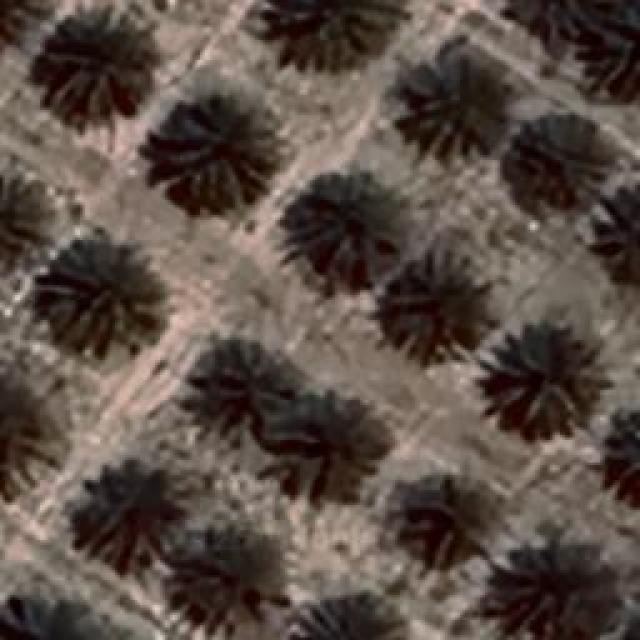PalmTree: (280, 168, 408, 288), (150, 92, 280, 210), (38, 238, 168, 352), (390, 49, 512, 162), (378, 250, 492, 362), (40, 18, 150, 118), (495, 328, 600, 430), (180, 521, 278, 624), (188, 342, 290, 438), (515, 547, 620, 640), (500, 125, 610, 210), (280, 0, 405, 65), (279, 400, 369, 490), (91, 466, 169, 554), (406, 482, 492, 560), (584, 179, 640, 293), (584, 401, 640, 515), (0, 369, 52, 489), (285, 592, 410, 638), (0, 592, 117, 640), (587, 0, 640, 95), (504, 0, 588, 54), (4, 164, 44, 258), (0, 0, 47, 45)
